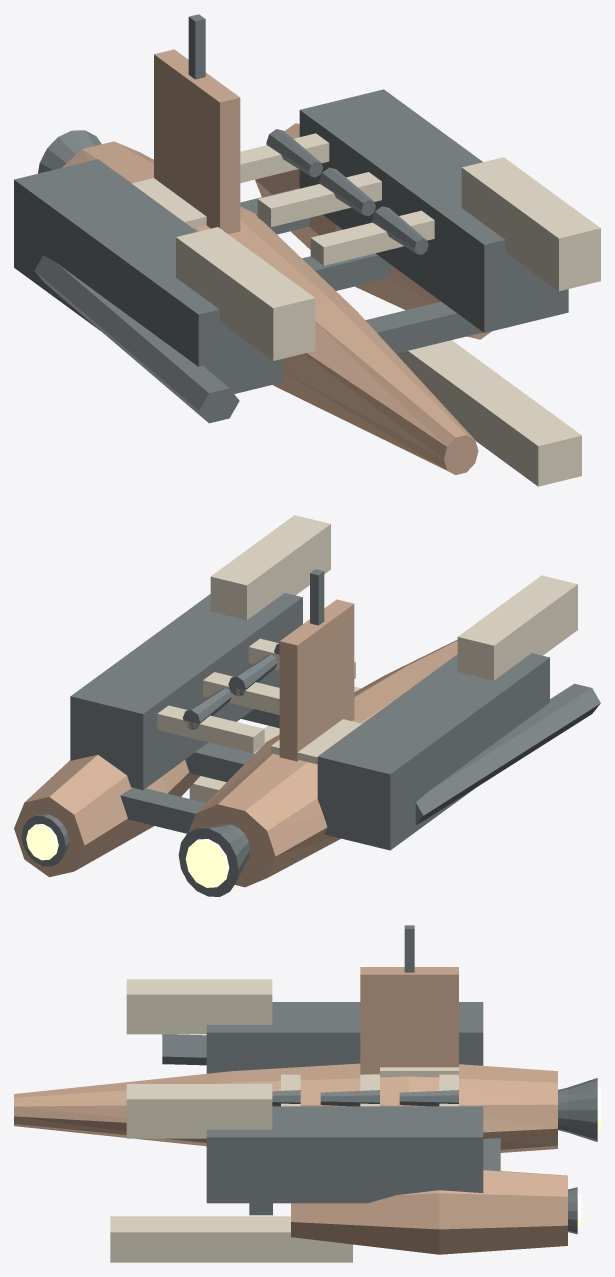
The picture shows the model from 3 angles, top to bottom: view 1: azimuth 30°, elevation 25°; view 2: azimuth 150°, elevation 25°; view 3: azimuth 270°, elevation 25°; orthographic projection. The views are drawn at different scales.
Size of the model in its own units: 9.94 by 8.11 by 16.12.
